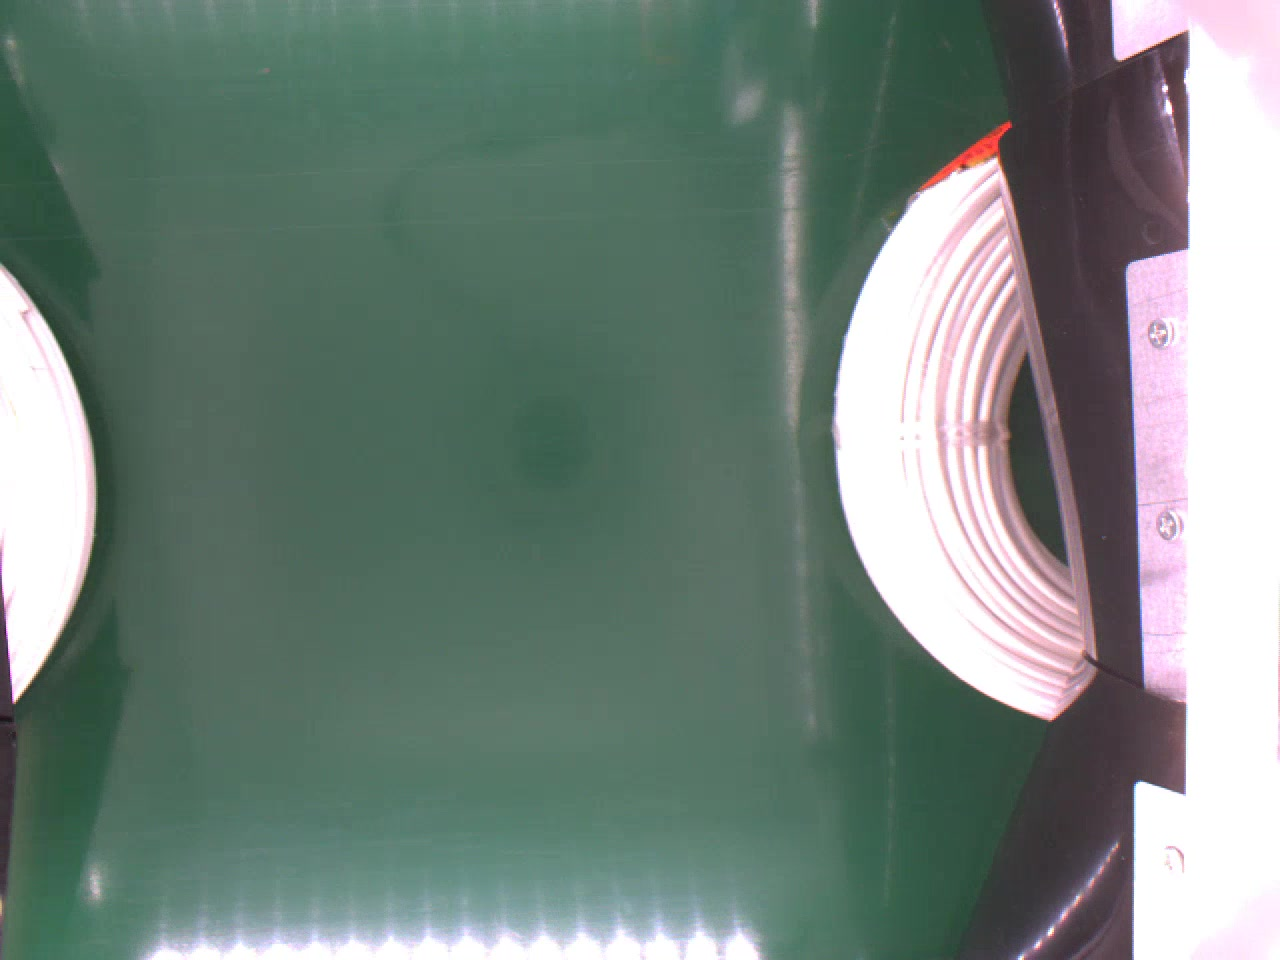white: (828, 120, 1079, 727)
